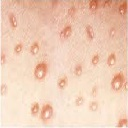Chickenpox: (6, 15, 128, 109)
